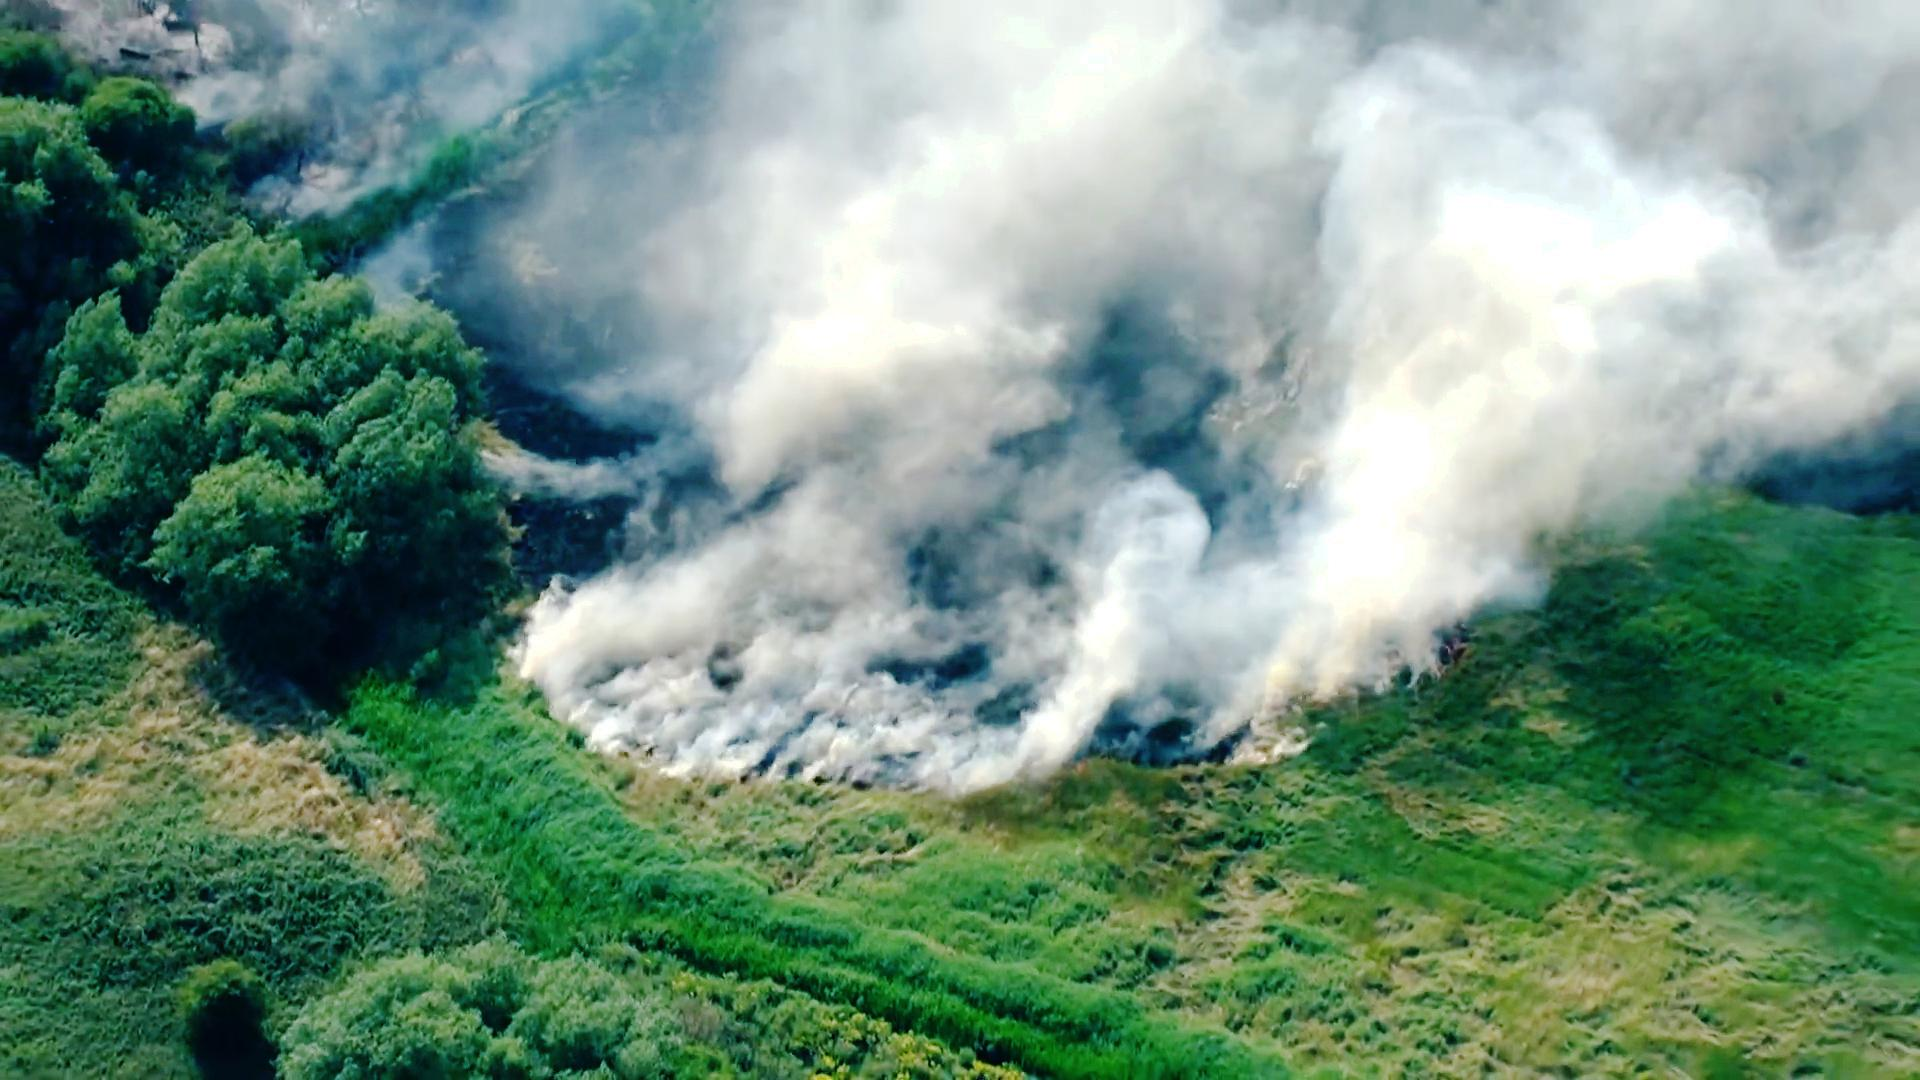smoke: (1215, 103, 1705, 554), (666, 75, 1058, 580), (729, 485, 1250, 806), (524, 575, 795, 794)
